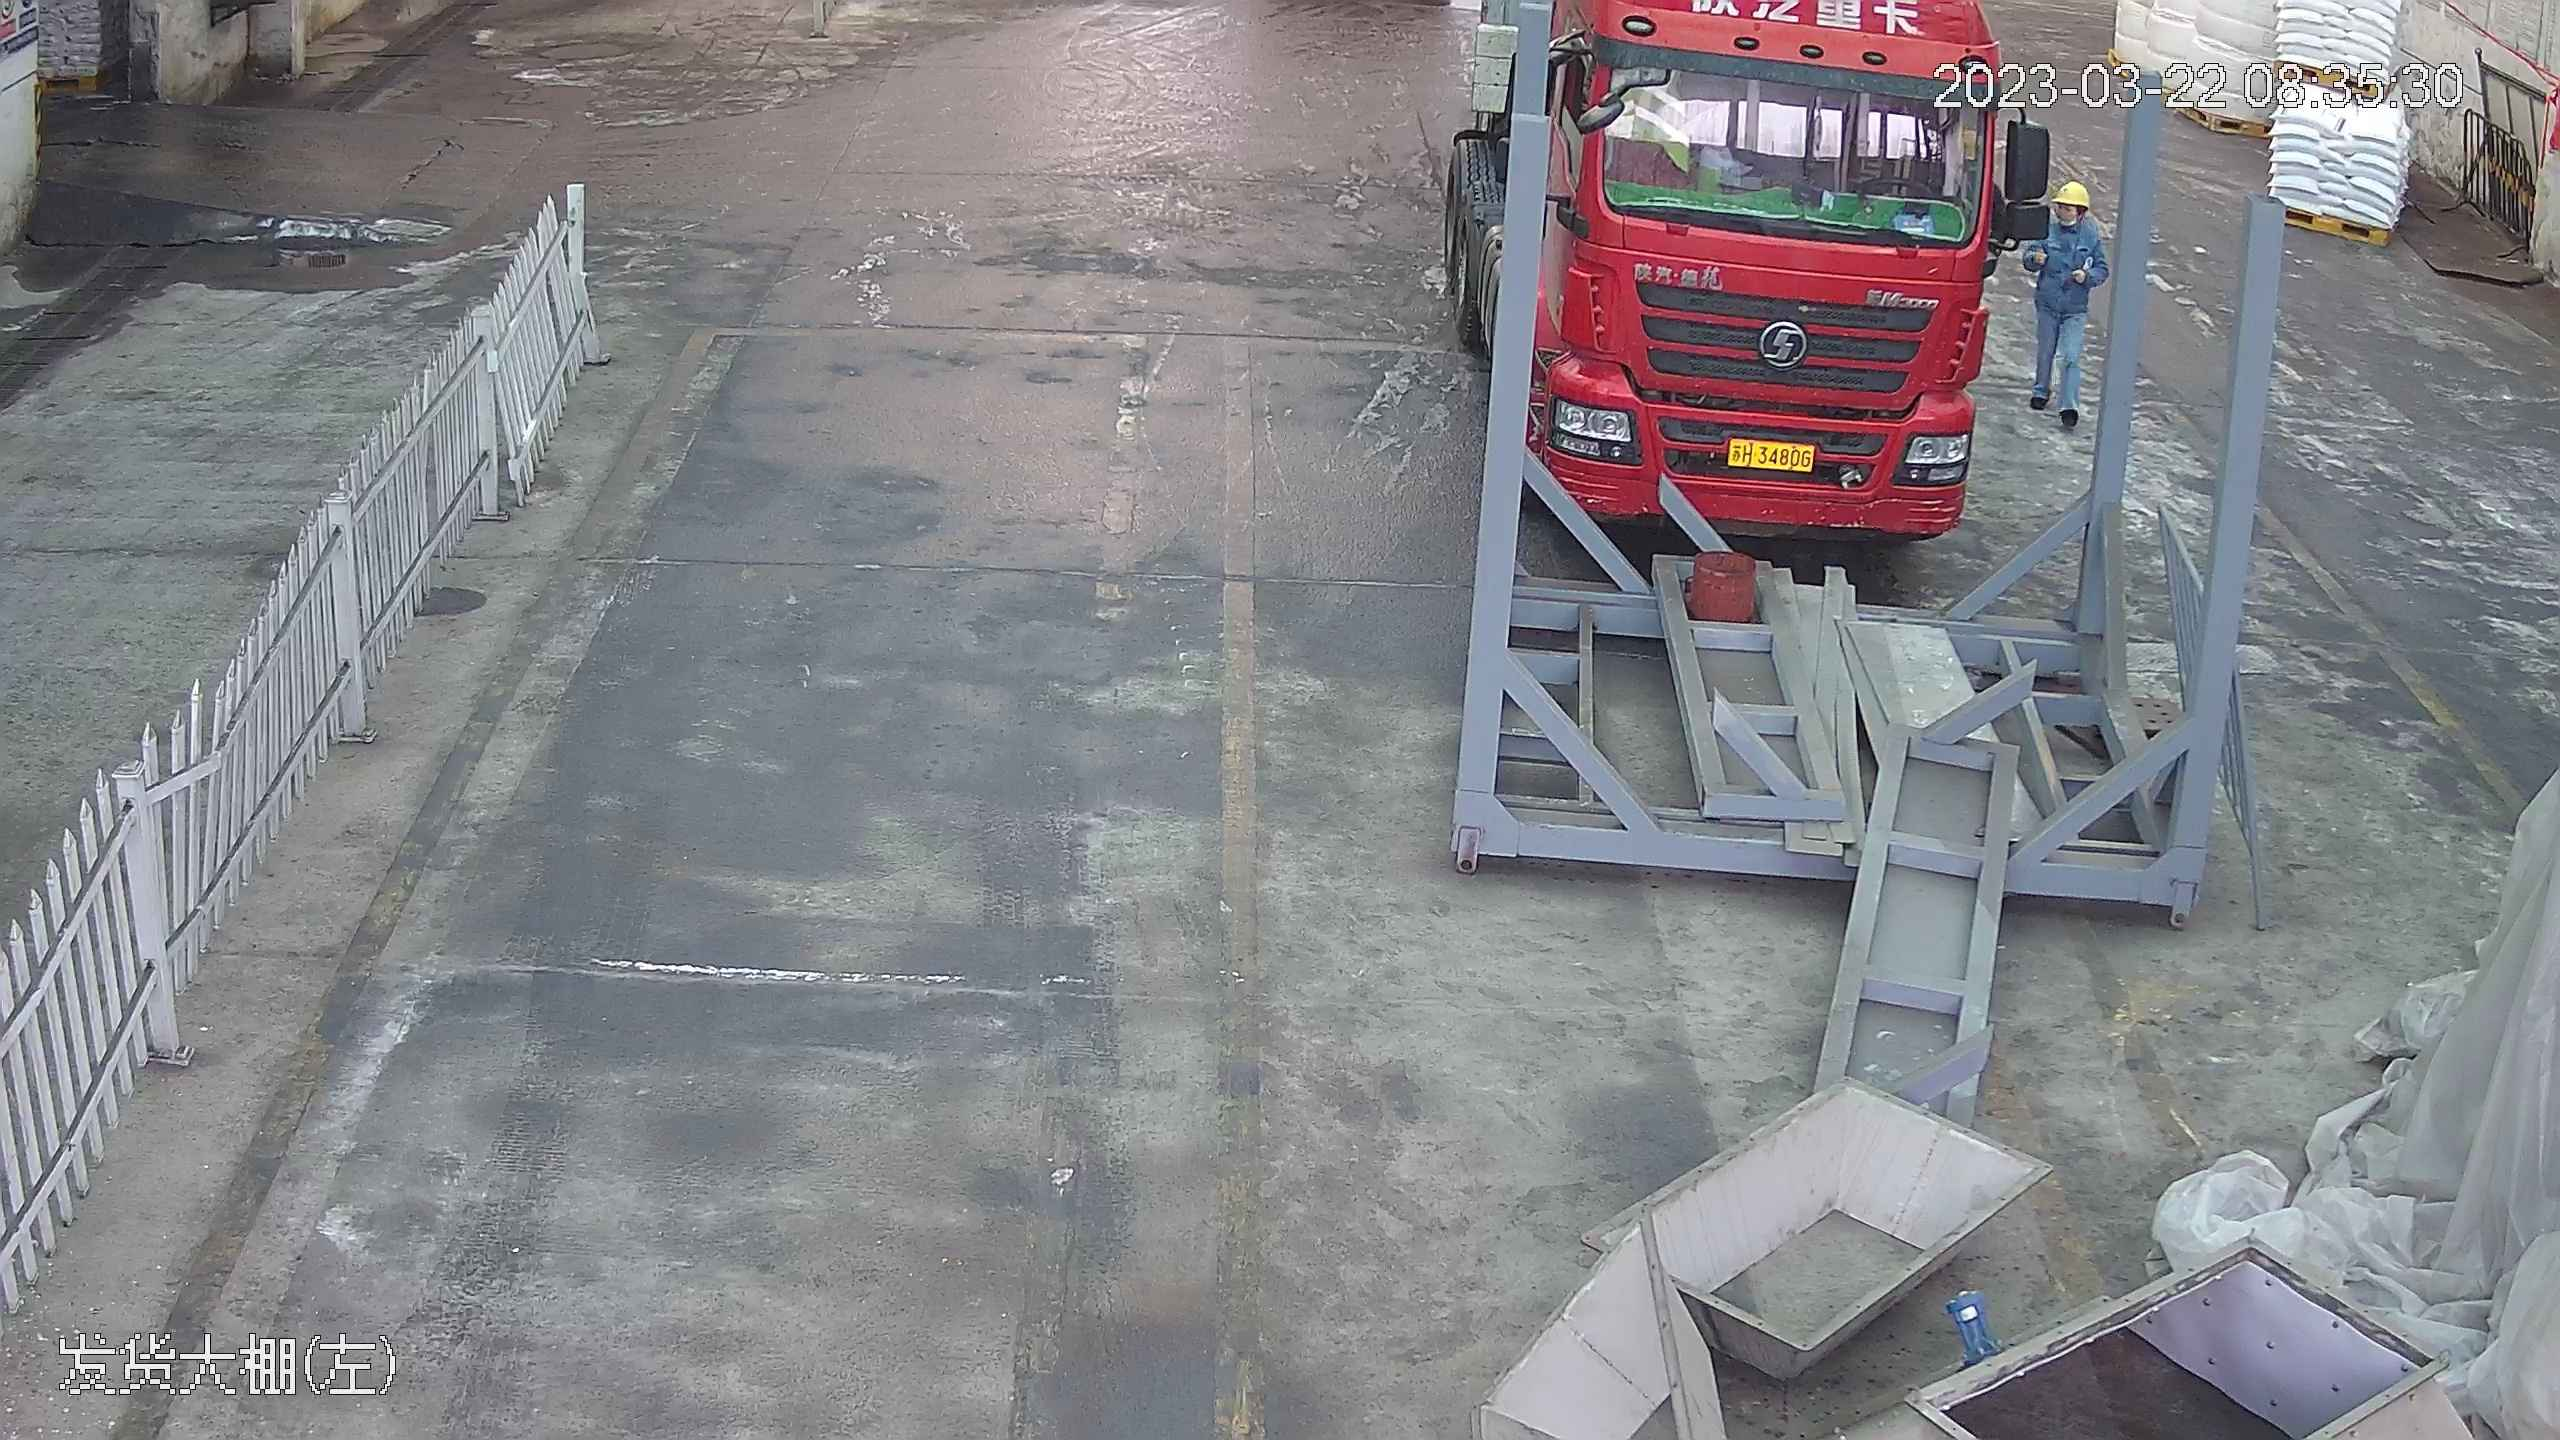head: (2037, 179, 2099, 257)
helmet: (2053, 179, 2089, 203)
people: (2021, 176, 2102, 431)
truck: (1491, 1, 2009, 541)
